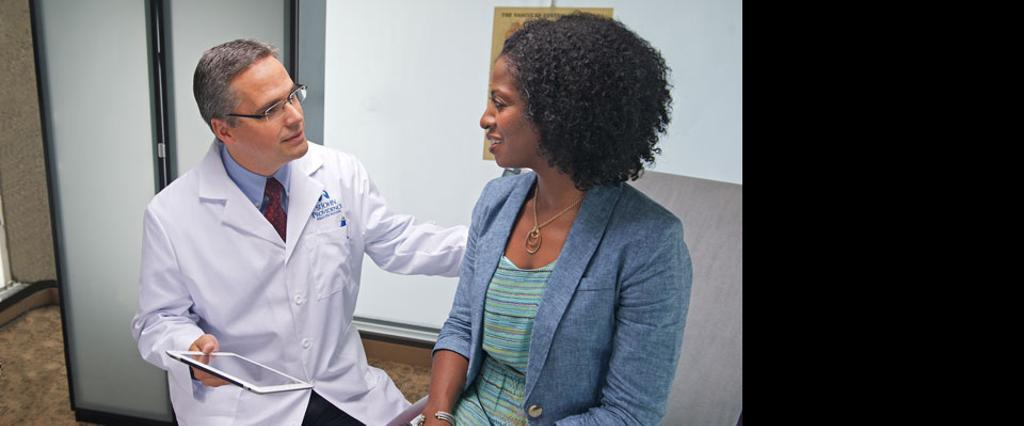face: (228, 54, 307, 158), (479, 54, 548, 167)
